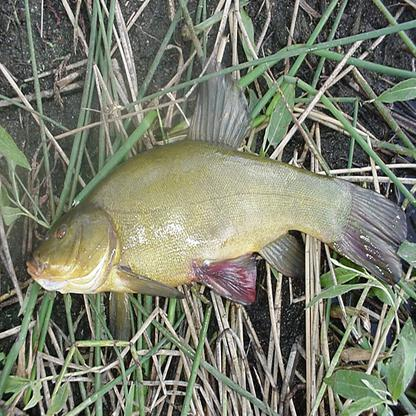fish: (24, 136, 408, 308)
